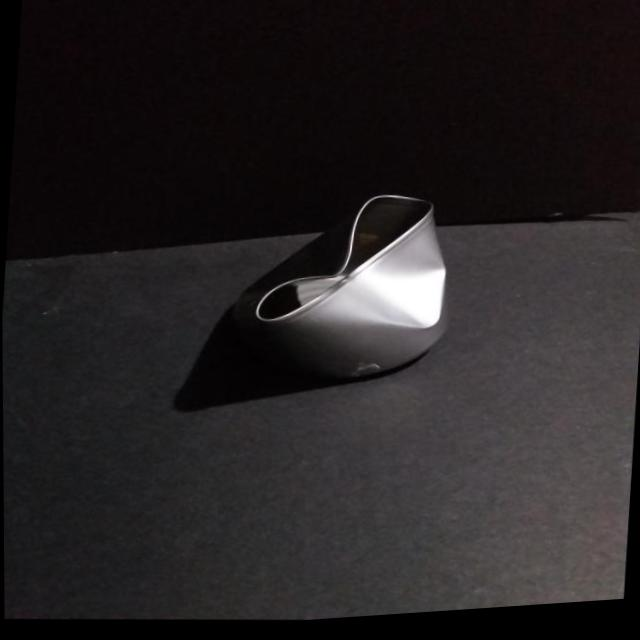metal: (255, 195, 445, 380)
